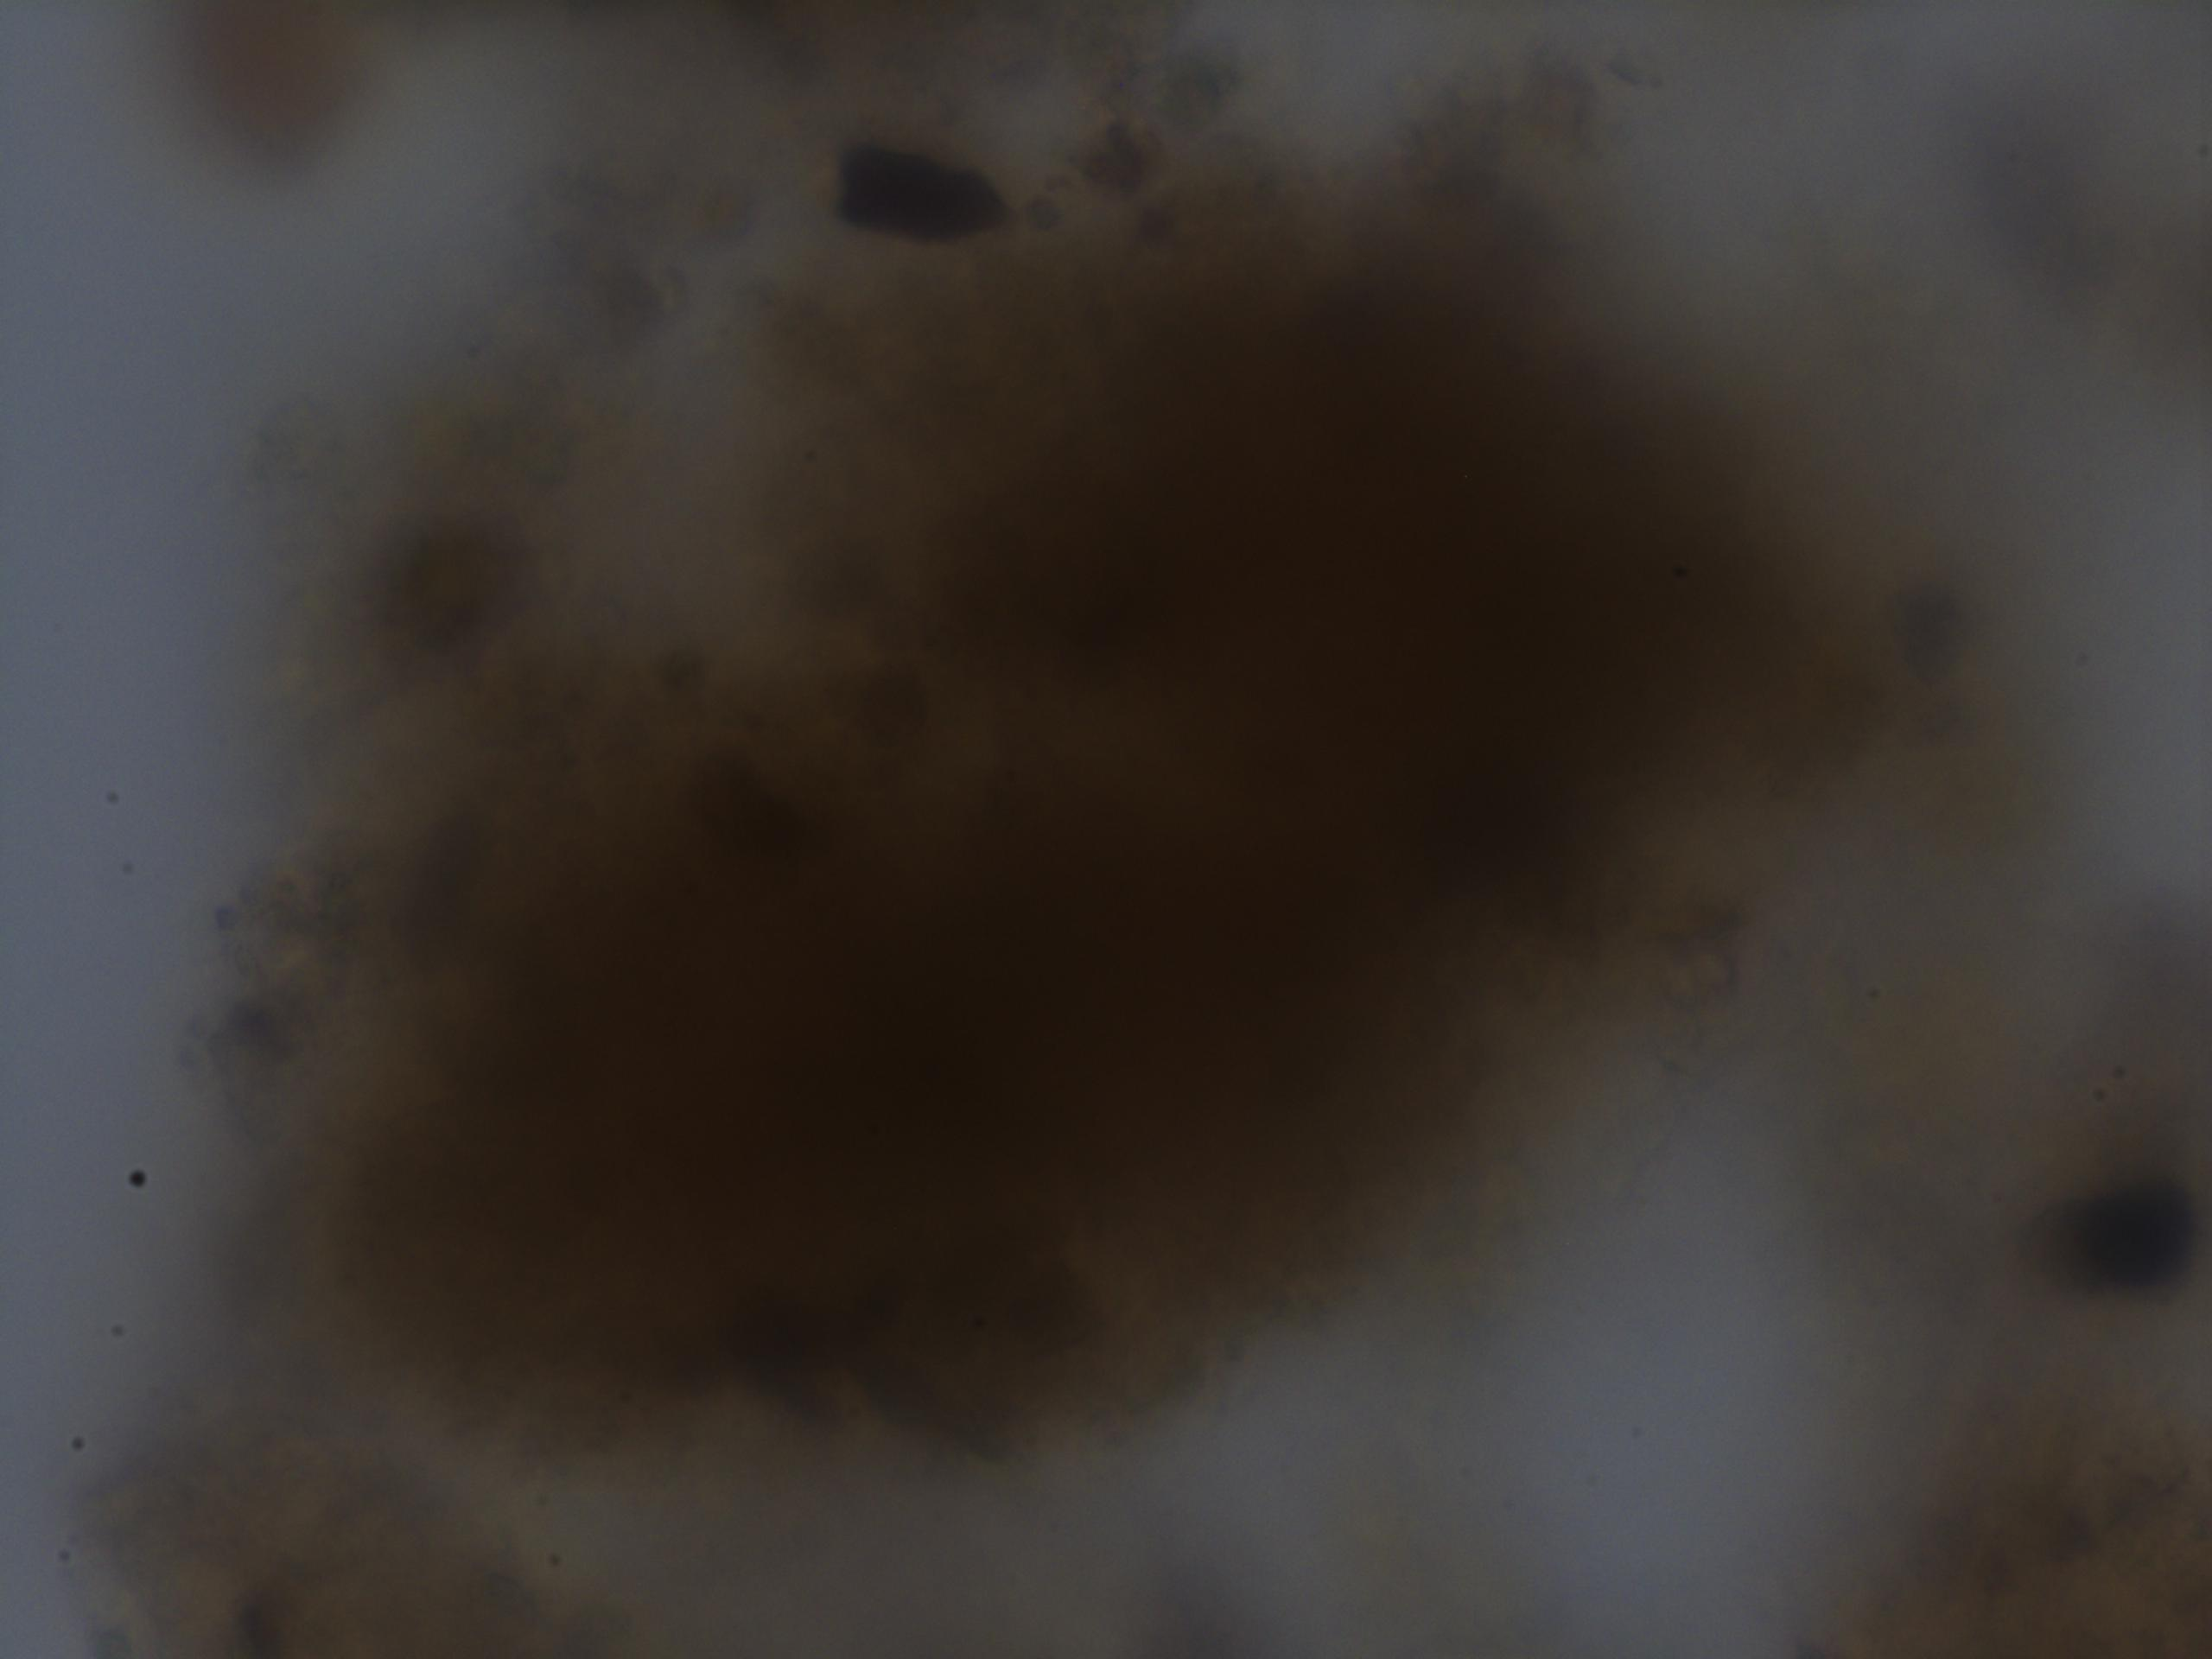spherical_floc: (307, 132, 1932, 1457)
